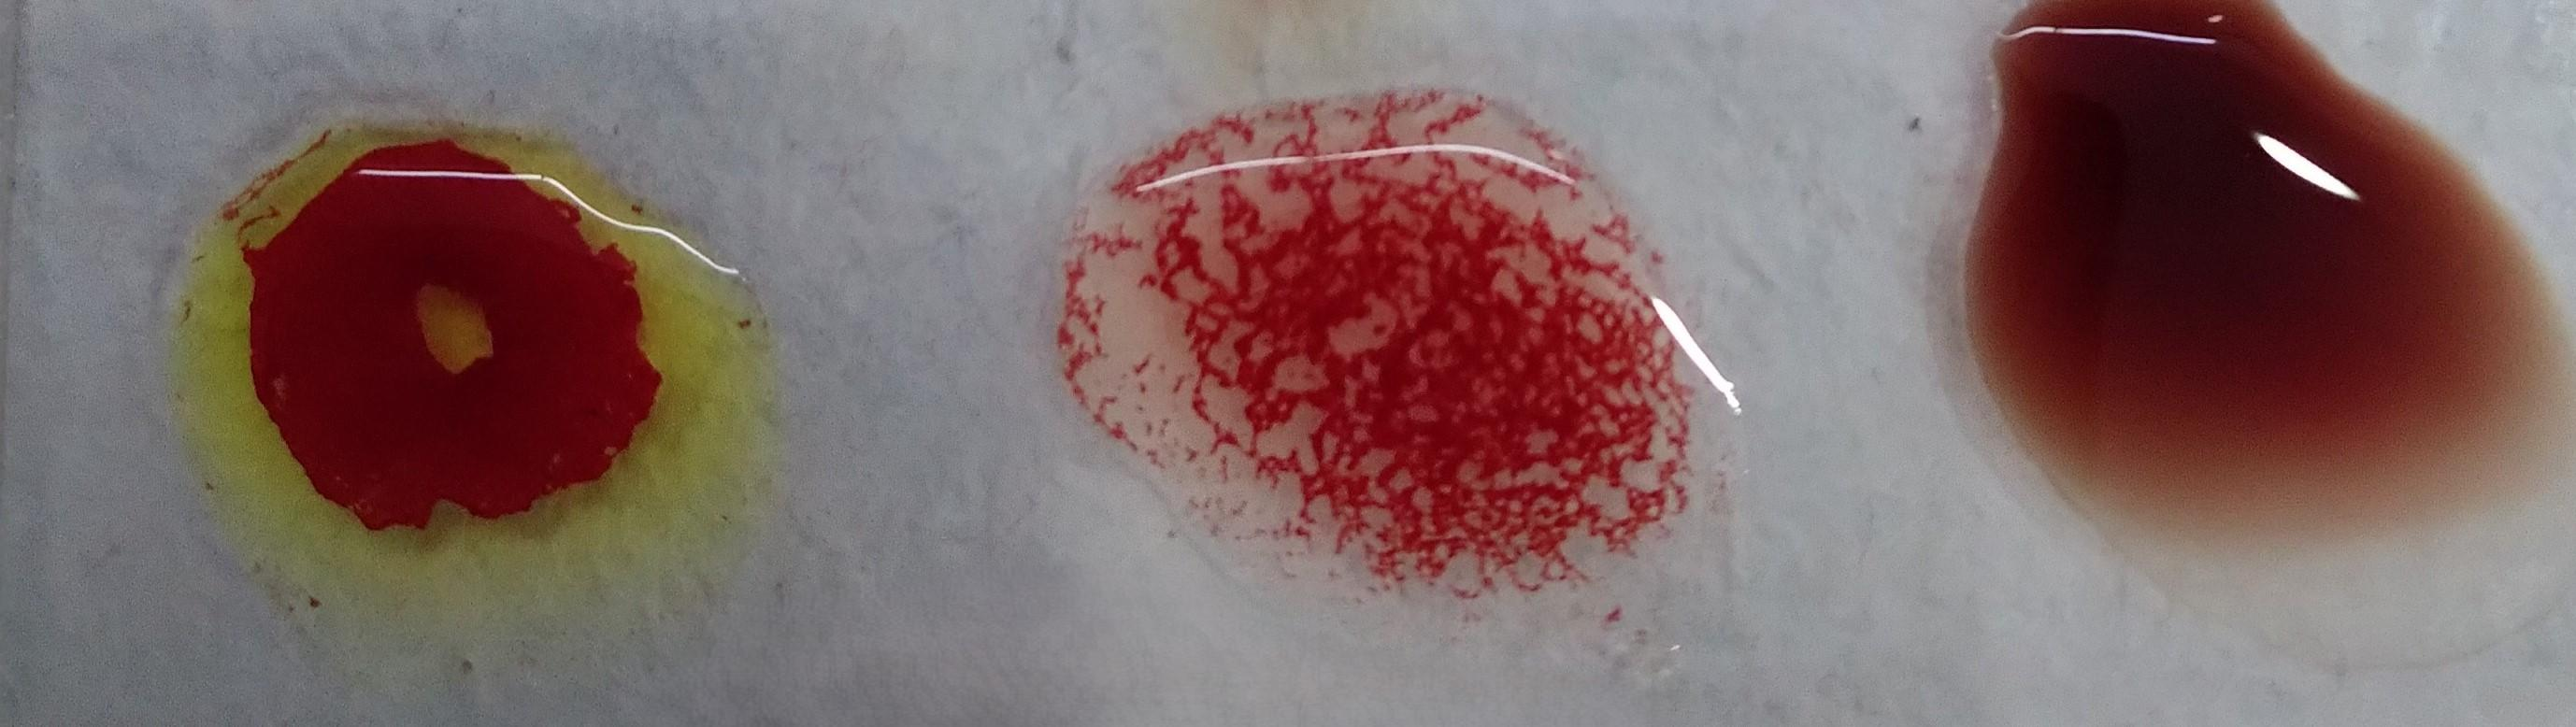B: (171, 120, 746, 640)
D: (1089, 121, 1736, 610)
